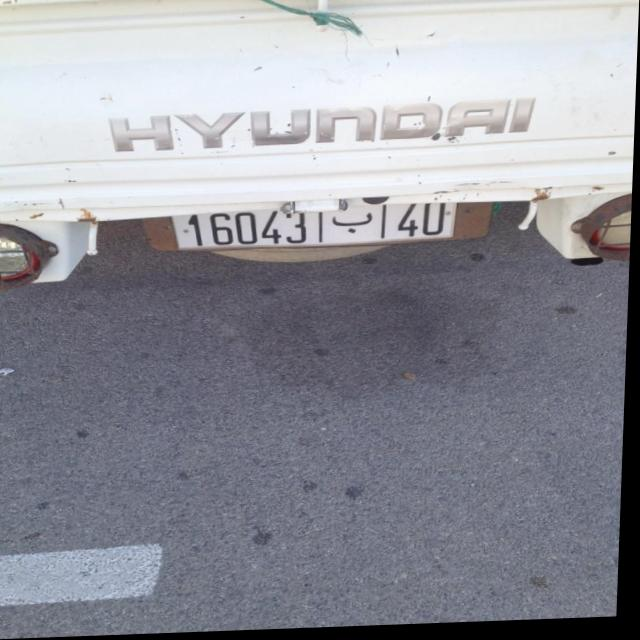License-Plate: (173, 207, 457, 251)
